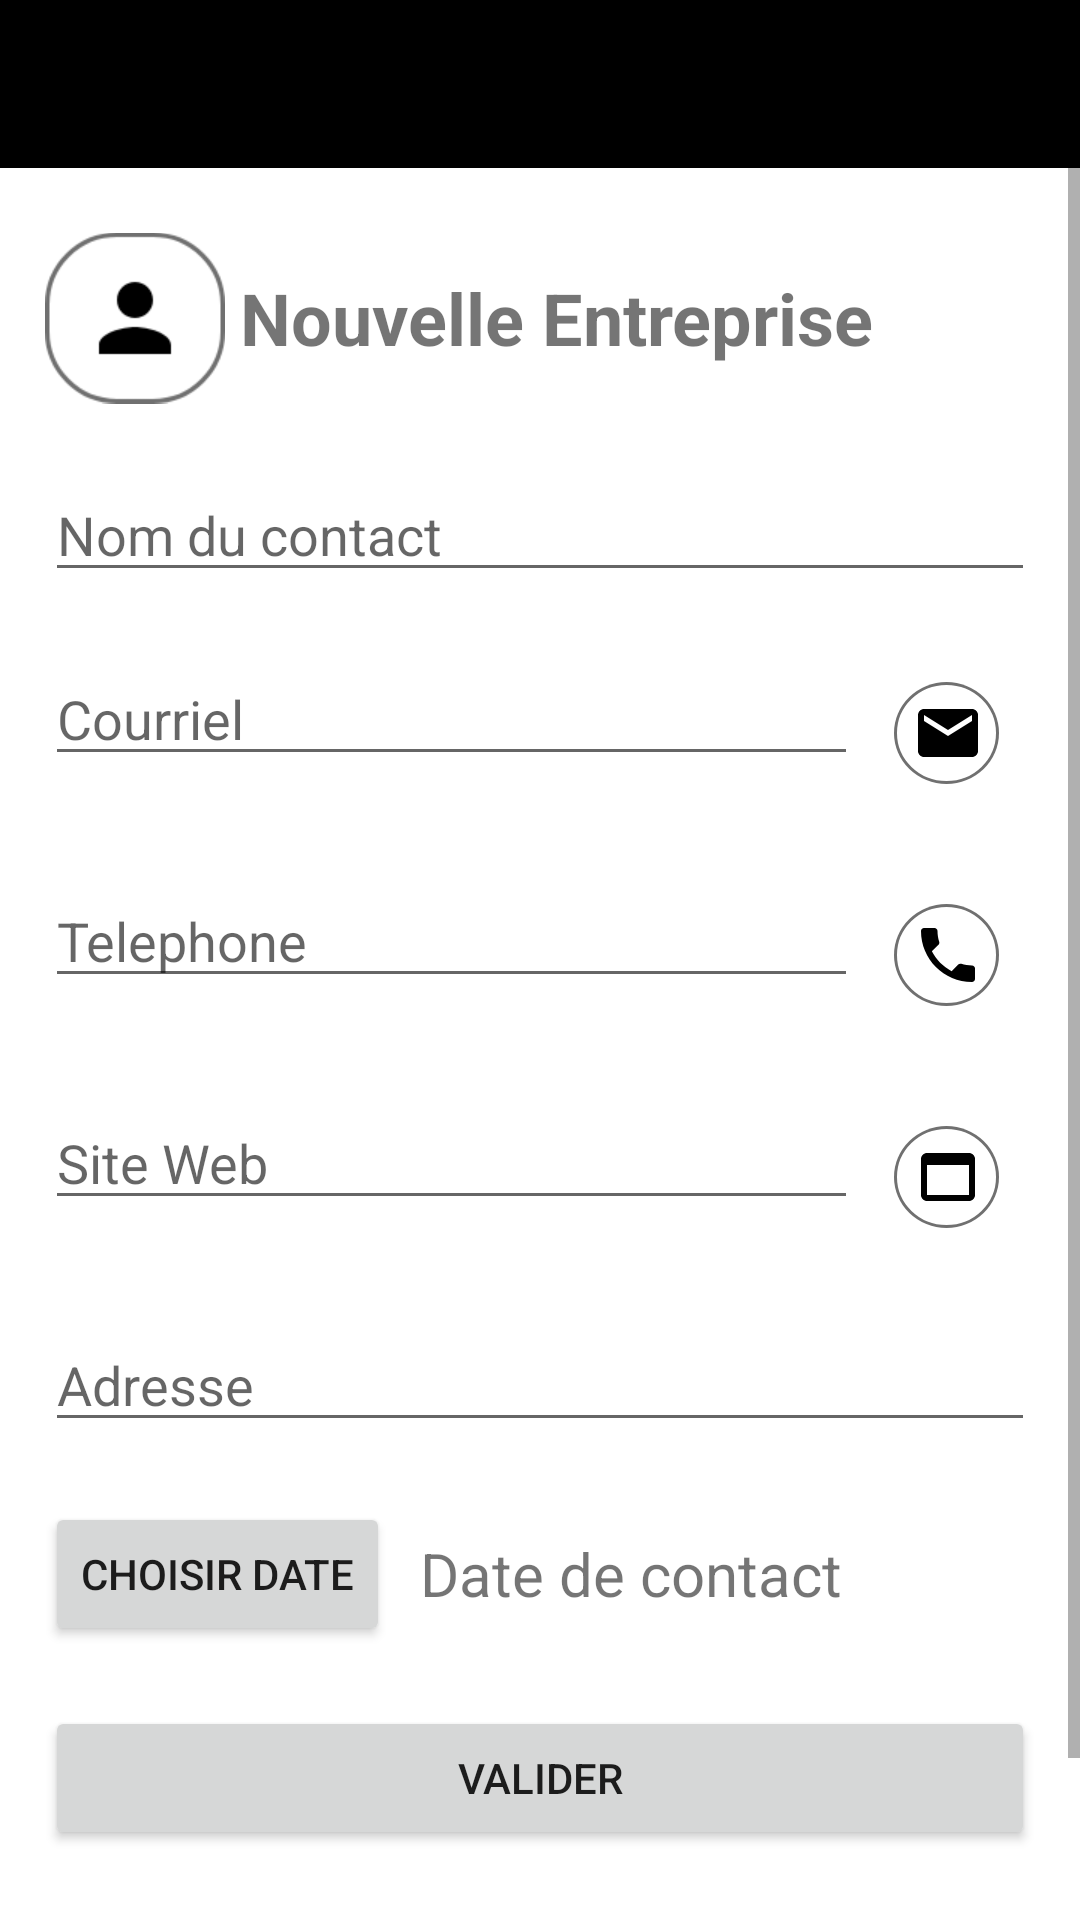

Icons on this 1080px x 1920px Android screen, each with the point to tap as (x,y):
mail: (946,733)
profil: (135,318)
